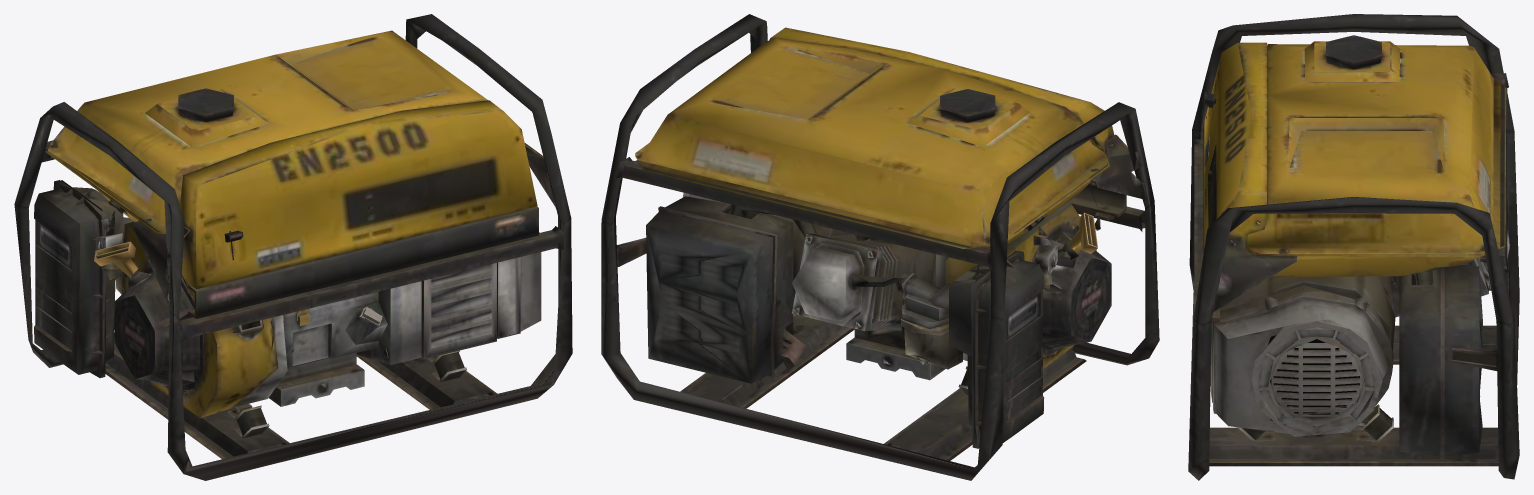
The model's file is portable_generator.glb.
The picture shows the model from 3 angles, left to right: view 1: azimuth 30°, elevation 25°; view 2: azimuth 150°, elevation 25°; view 3: azimuth 270°, elevation 25°; orthographic projection.
Visible parts, largest first — view 1: portable_generator; view 2: portable_generator; view 3: portable_generator.
Boxes of the visible parts, left/top/right/bottom form: portable_generator: left=14, top=14, right=572, bottom=480; portable_generator: left=601, top=14, right=1159, bottom=480; portable_generator: left=1188, top=14, right=1519, bottom=480.
Size of the model in its own units: 0.8169 by 0.5753 by 0.564.
2 materials, 2 textured.
